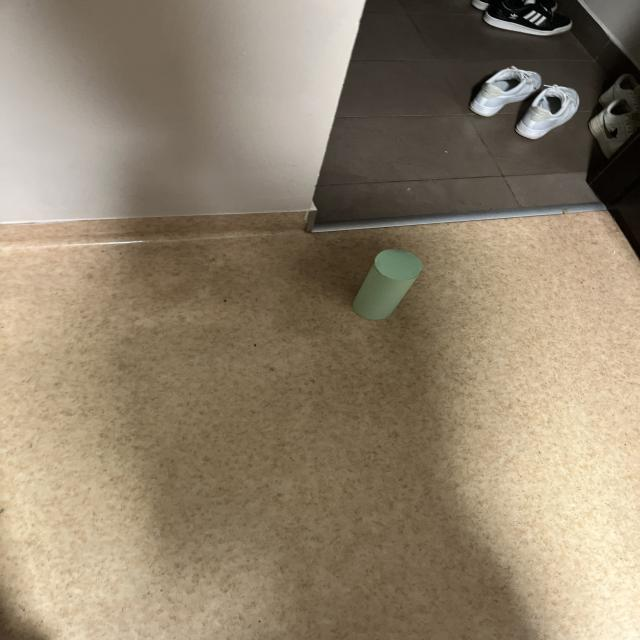meta: (353, 249, 422, 320)
